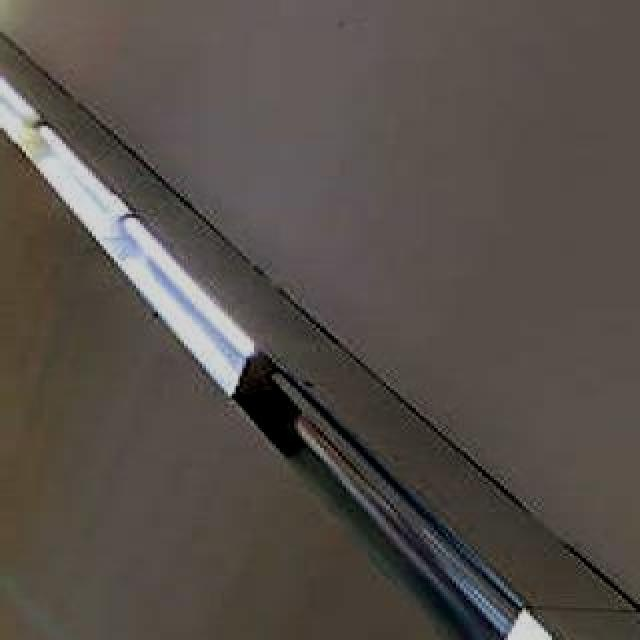fluorescent tube: (250, 360, 528, 640), (105, 213, 262, 375), (18, 118, 135, 235), (512, 622, 640, 640)
